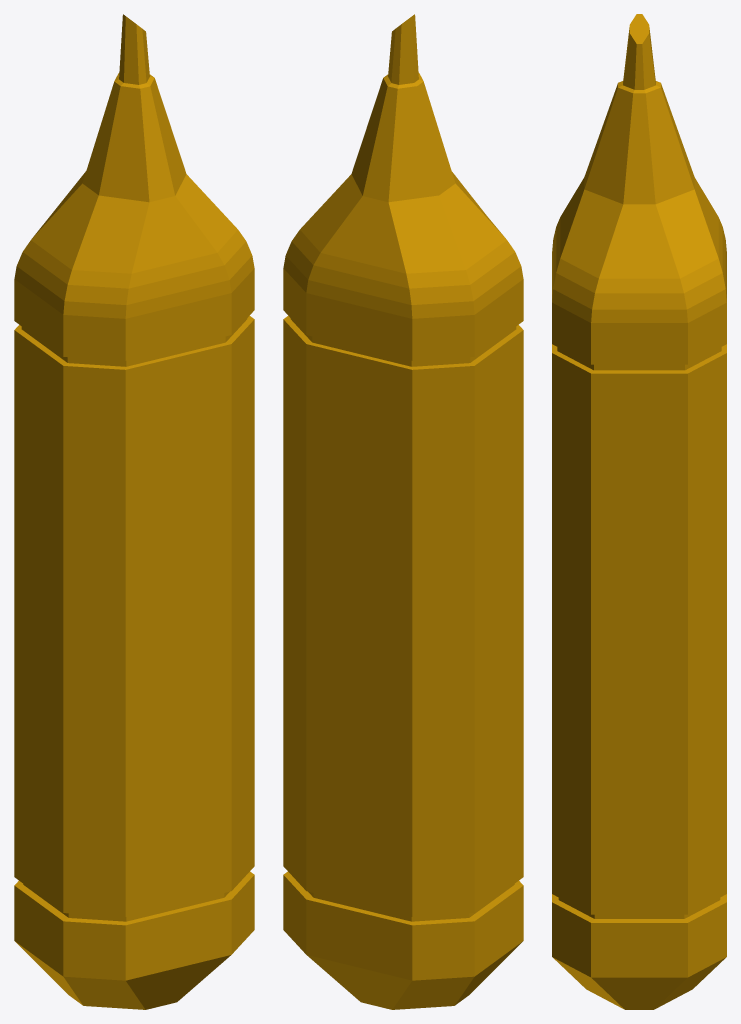
Rendered from MarkPen.fbx.
3 renders of one model, left to right at view 1: azimuth 30°, elevation 25°; view 2: azimuth 150°, elevation 25°; view 3: azimuth 270°, elevation 25°, orthographic.
Visible parts, largest first — view 1: Cube.001, Cube, Cube.002; view 2: Cube.001, Cube, Cube.002; view 3: Cube.001, Cube, Cube.002.
Part boxes in pixels (left/top/right/bottom): Cube.001: left=14, top=315, right=254, bottom=921; Cube: left=14, top=73, right=254, bottom=1009; Cube.002: left=119, top=14, right=149, bottom=84; Cube.001: left=283, top=315, right=523, bottom=921; Cube: left=283, top=73, right=523, bottom=1009; Cube.002: left=388, top=14, right=418, bottom=84; Cube.001: left=552, top=344, right=726, bottom=918; Cube: left=552, top=81, right=726, bottom=1009; Cube.002: left=623, top=14, right=655, bottom=89.
Size of the model in its own units: 80.3 by 391 by 64.25.
